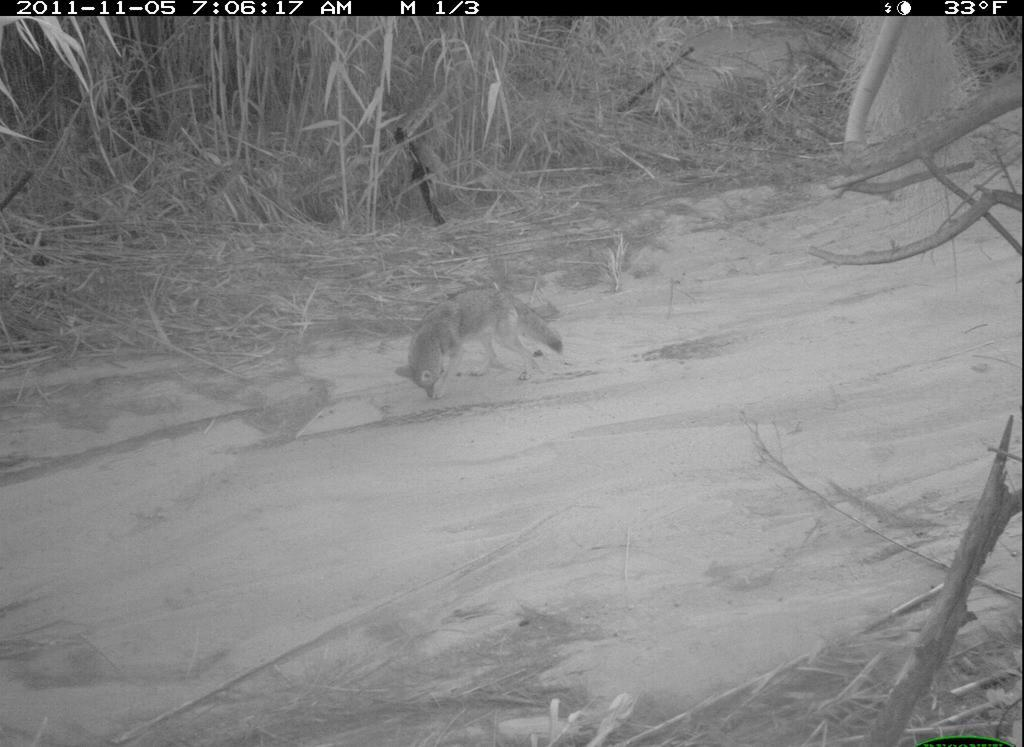coyote: (395, 273, 570, 410)
